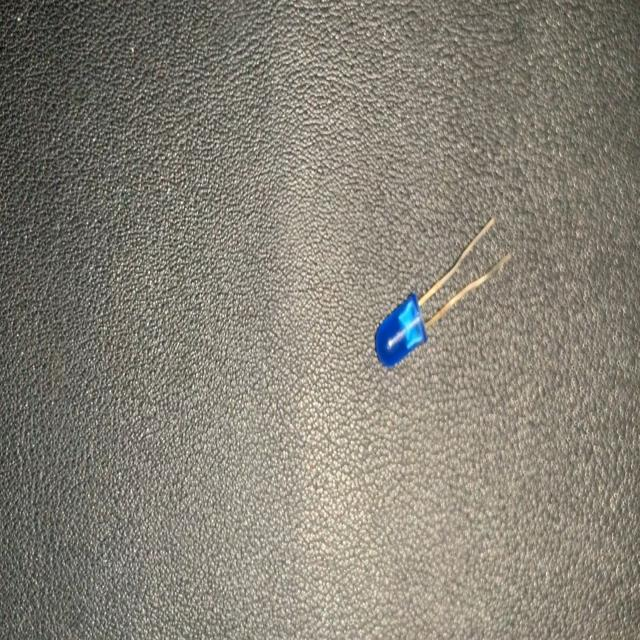LED: (375, 213, 512, 369)
